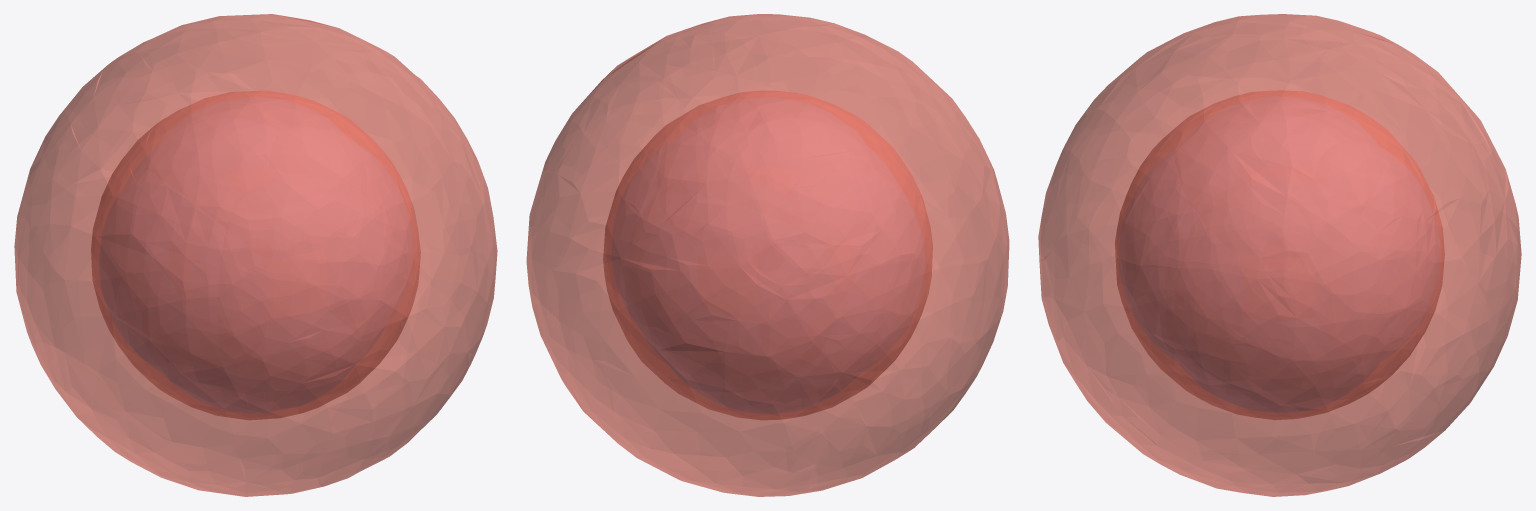
Rendered from orbital.glb.
The picture shows the model from 3 angles, left to right: view 1: azimuth 30°, elevation 25°; view 2: azimuth 150°, elevation 25°; view 3: azimuth 270°, elevation 25°; orthographic projection.
Parts seen in each view (by area): view 1: Na_n3_s_ml0_node, Na_n2_s_ml0_node; view 2: Na_n3_s_ml0_node, Na_n2_s_ml0_node; view 3: Na_n3_s_ml0_node, Na_n2_s_ml0_node.
Part boxes in pixels (x1,y1,x2,y2): Na_n3_s_ml0_node: (14,14,497,496); Na_n2_s_ml0_node: (91,90,420,419); Na_n3_s_ml0_node: (526,14,1009,496); Na_n2_s_ml0_node: (603,91,932,419); Na_n3_s_ml0_node: (1038,14,1521,496); Na_n2_s_ml0_node: (1115,90,1444,419).
Size of the model in its own units: 1.57 by 1.57 by 1.57.
